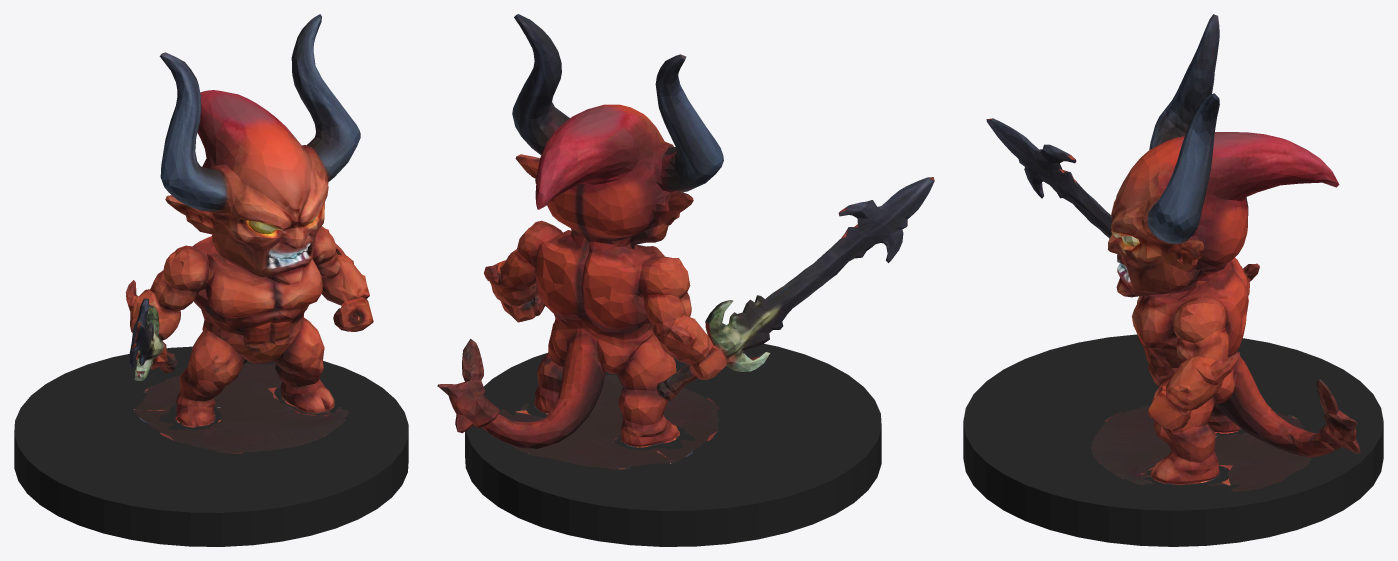
Rendered from bloodletter.glb.
The picture shows the model from 3 angles, left to right: view 1: azimuth 30°, elevation 25°; view 2: azimuth 150°, elevation 25°; view 3: azimuth 270°, elevation 25°; orthographic projection. The views are drawn at different scales.
Visible parts, largest first — view 1: figure, base; view 2: figure, base; view 3: figure, base.
Part boxes in pixels (x1,y1,x2,y2): figure: (125,14,373,453); base: (14,346,408,546); figure: (437,14,934,469); base: (465,343,881,546); figure: (986,14,1360,491); base: (963,334,1383,546).
Size of the model in its own units: 1.26 by 1.42 by 1.26.
2 materials, 1 textured.
